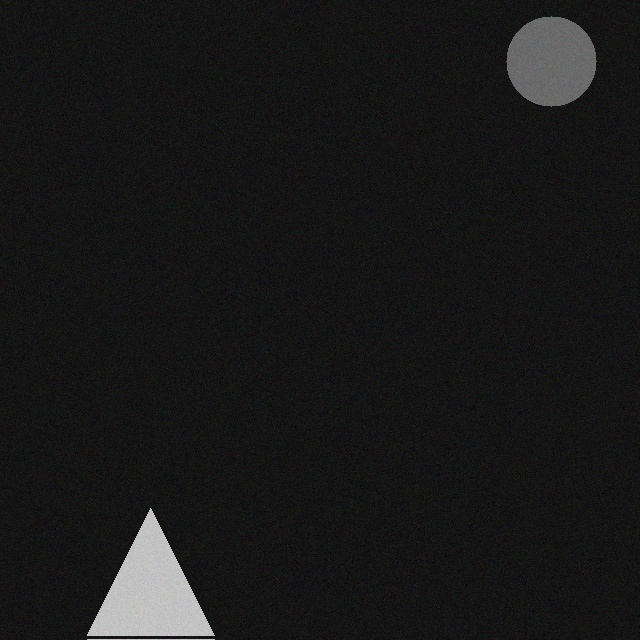circle: (509, 18, 599, 108)
triangle: (90, 510, 217, 637)
